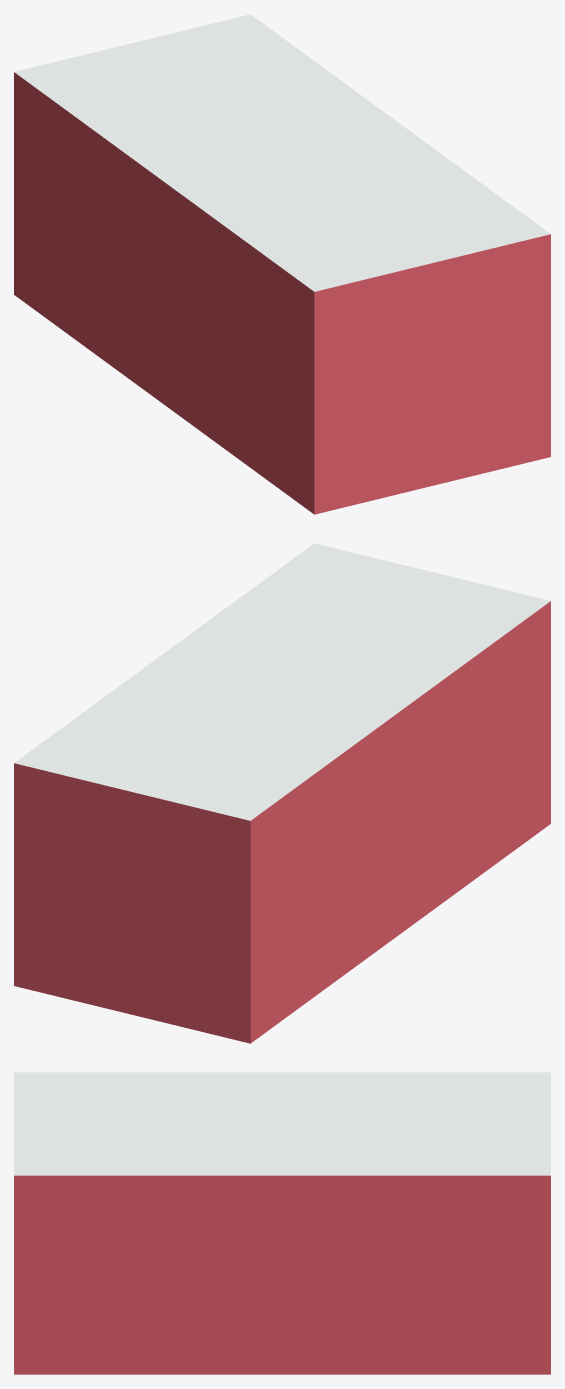
File: gate.glb
The picture shows the model from 3 angles, top to bottom: view 1: azimuth 30°, elevation 25°; view 2: azimuth 150°, elevation 25°; view 3: azimuth 270°, elevation 25°; orthographic projection. The views are drawn at different scales.
Visible parts, largest first — view 1: Gate; view 2: Gate; view 3: Gate.
Part boxes in pixels (left/top/right/bottom): Gate: left=14, top=14, right=550, bottom=514; Gate: left=14, top=543, right=550, bottom=1043; Gate: left=14, top=1072, right=550, bottom=1374.
Bounding box in the file's own units: 0.5 × 0.45 × 1.1.
